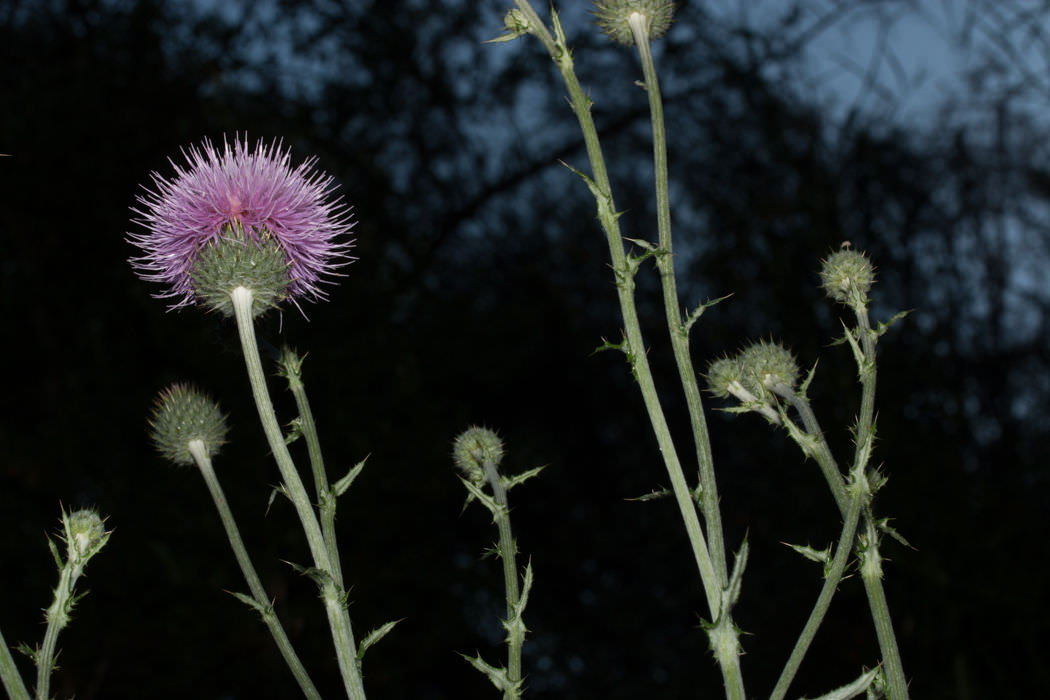thistle: (109, 129, 360, 333)
